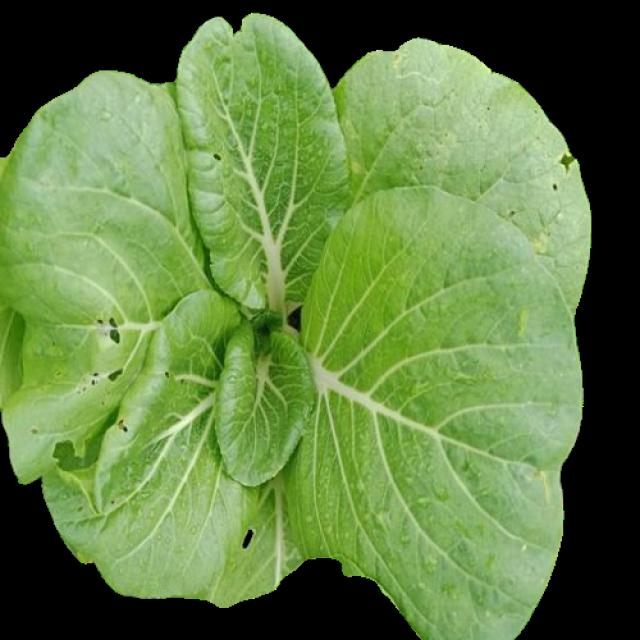mature: (1, 17, 588, 635)
unhealthy: (1, 77, 297, 605), (335, 39, 590, 314), (181, 19, 339, 305)
